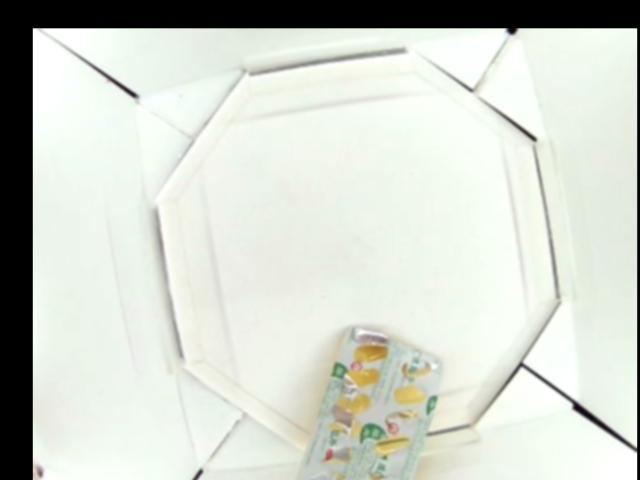Medicine: (299, 325, 443, 480)
